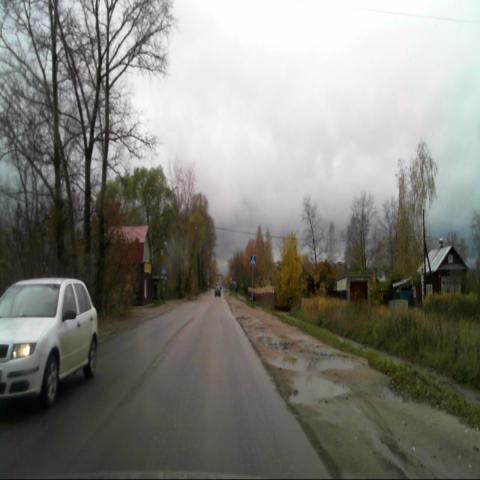5_19_1: (250, 254, 256, 268)
